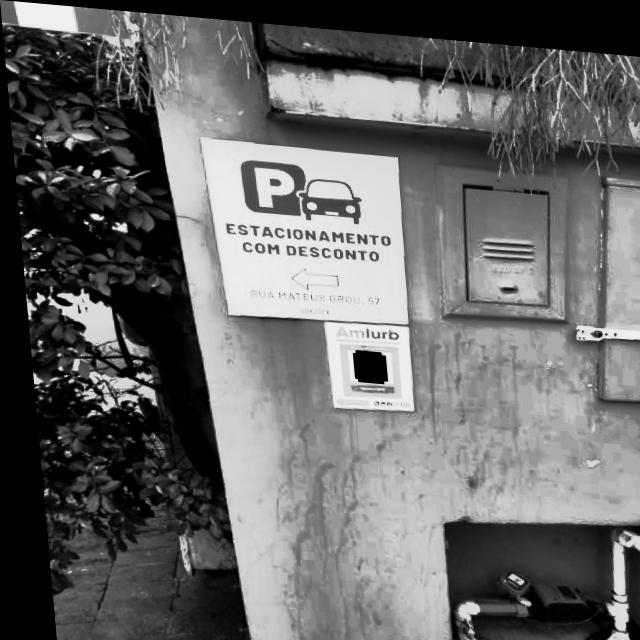qr_code: (349, 345, 380, 377)
